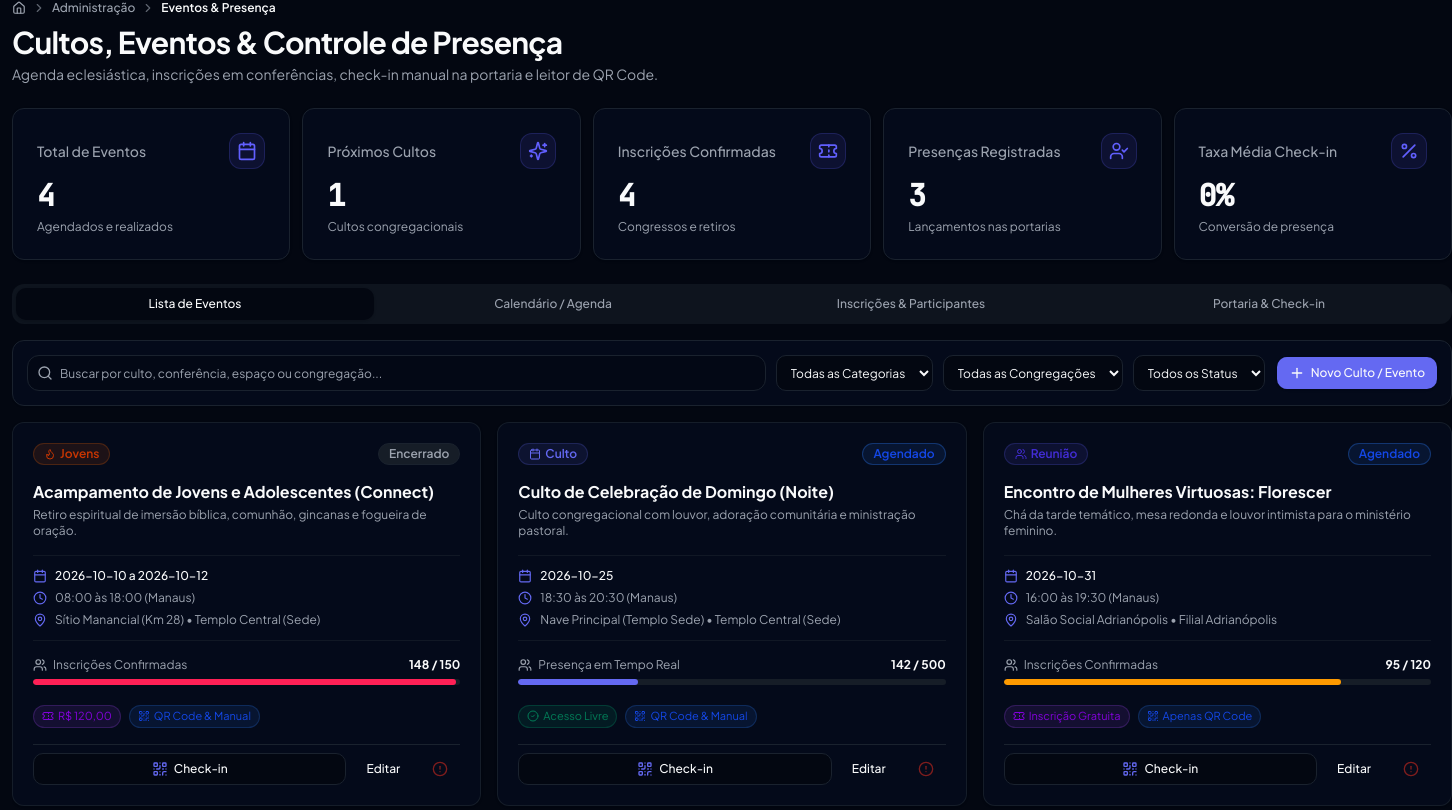
Test: Etapa 06 — Eventos & Presença › deve navegar até a aba de Calendário / Agenda e exibir a programação por dia
This screenshot has width=1452, height=810.
Expected: the heading "Culto de Celebração de Domingo (Noite)" is shown, [518,481,834,502]
What coordinates should you click on to do the following:
click the tab "Calendário / Agenda"
I would click on:
 (553, 304)
Its box is [374,288,732,320].
(page scrolled)
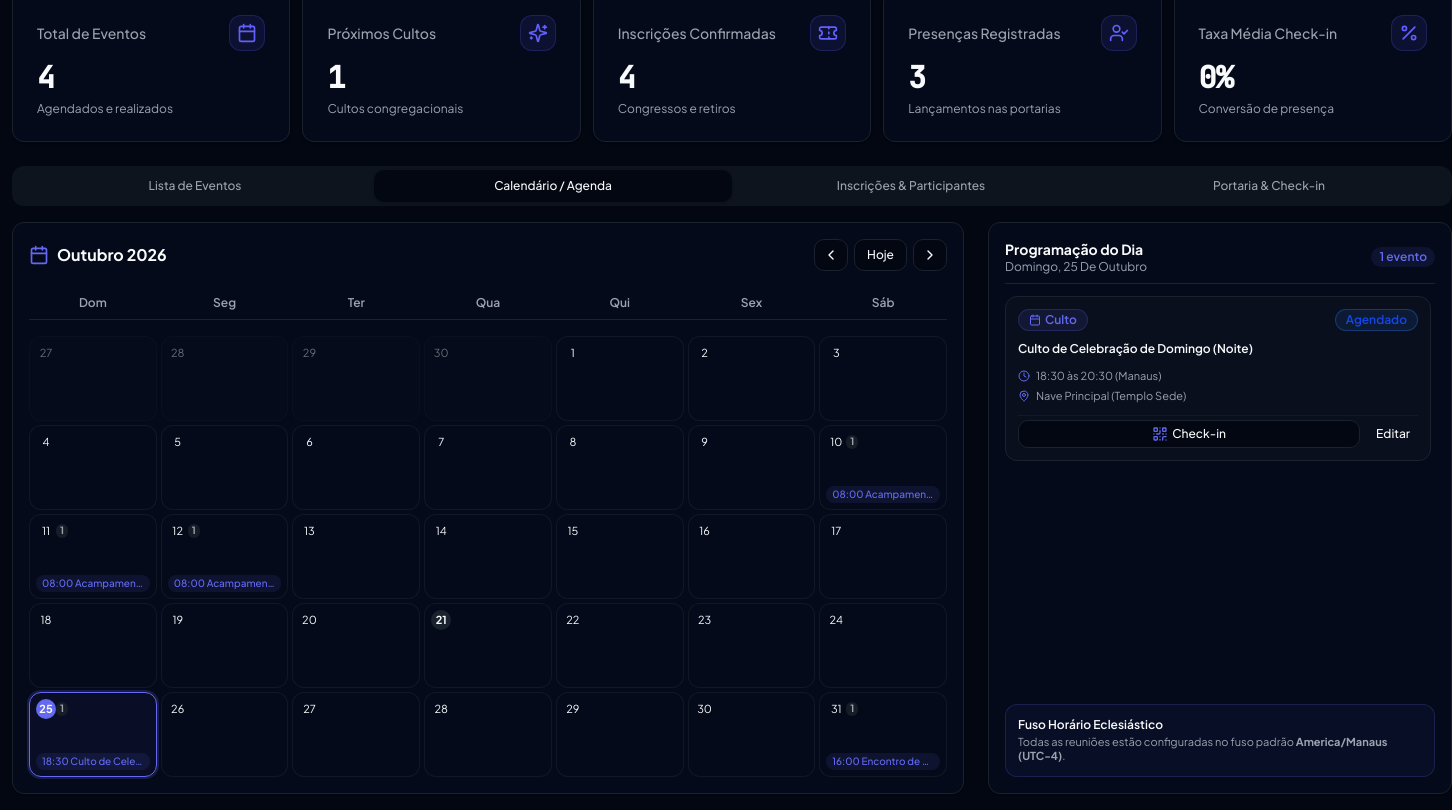
Expected: the heading "Programação do Dia" is shown, [1005,239,1147,259]
Expected: the text "Fuso Horário Eclesiástico" is shown, [1018,717,1163,732]
